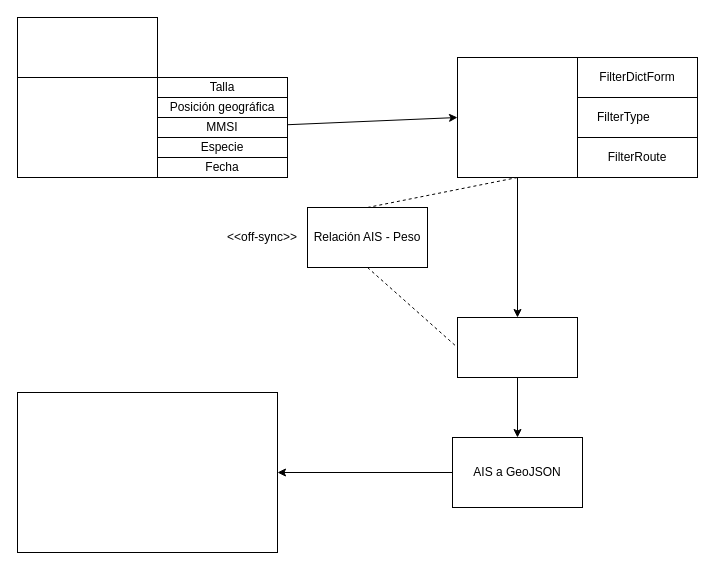
This 715x570 diagram has some shape labels left out. The shapes that lost their labels are listed below. From the top down, each one's centre as x and y in pixels, then its label:
(x=87, y=47): Señal del cliente
(x=87, y=127): Información de búsquedad
(x=517, y=117): Filtrado de datos
(x=517, y=347): Relación en base a Travels
(x=147, y=472): webGIS
